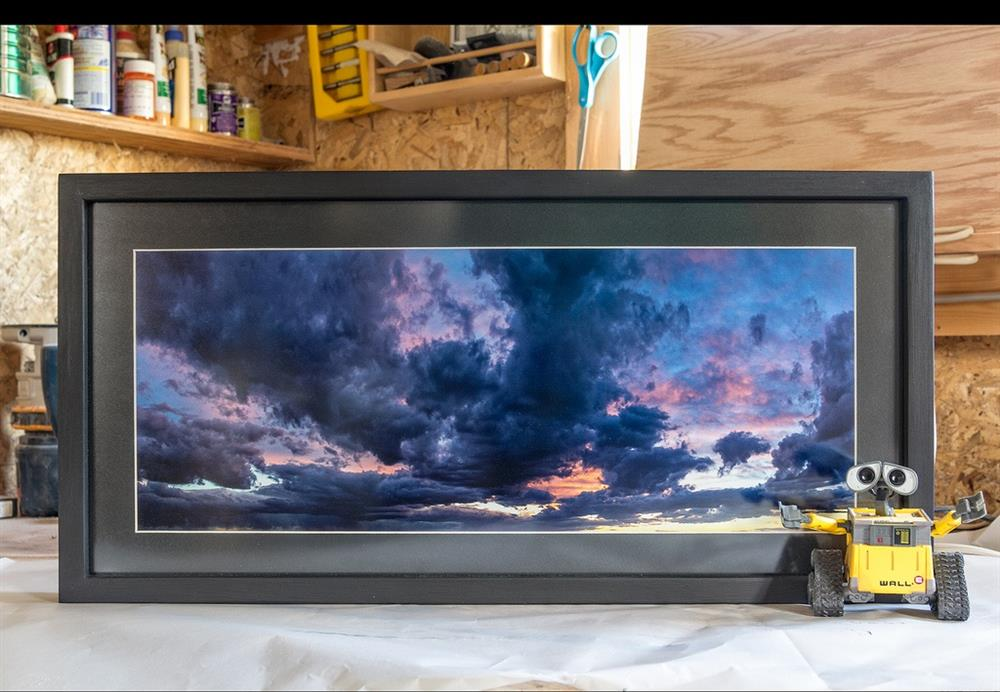walle: (780, 459, 991, 625)
